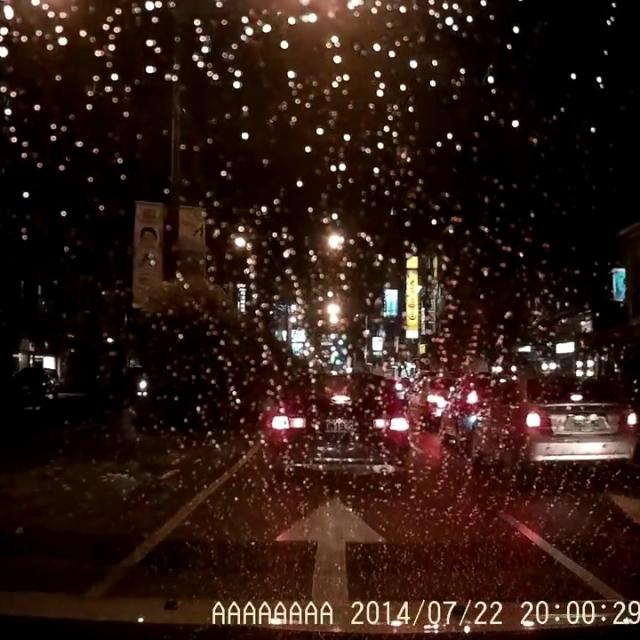Car: (471, 374, 639, 488), (269, 370, 412, 489)
